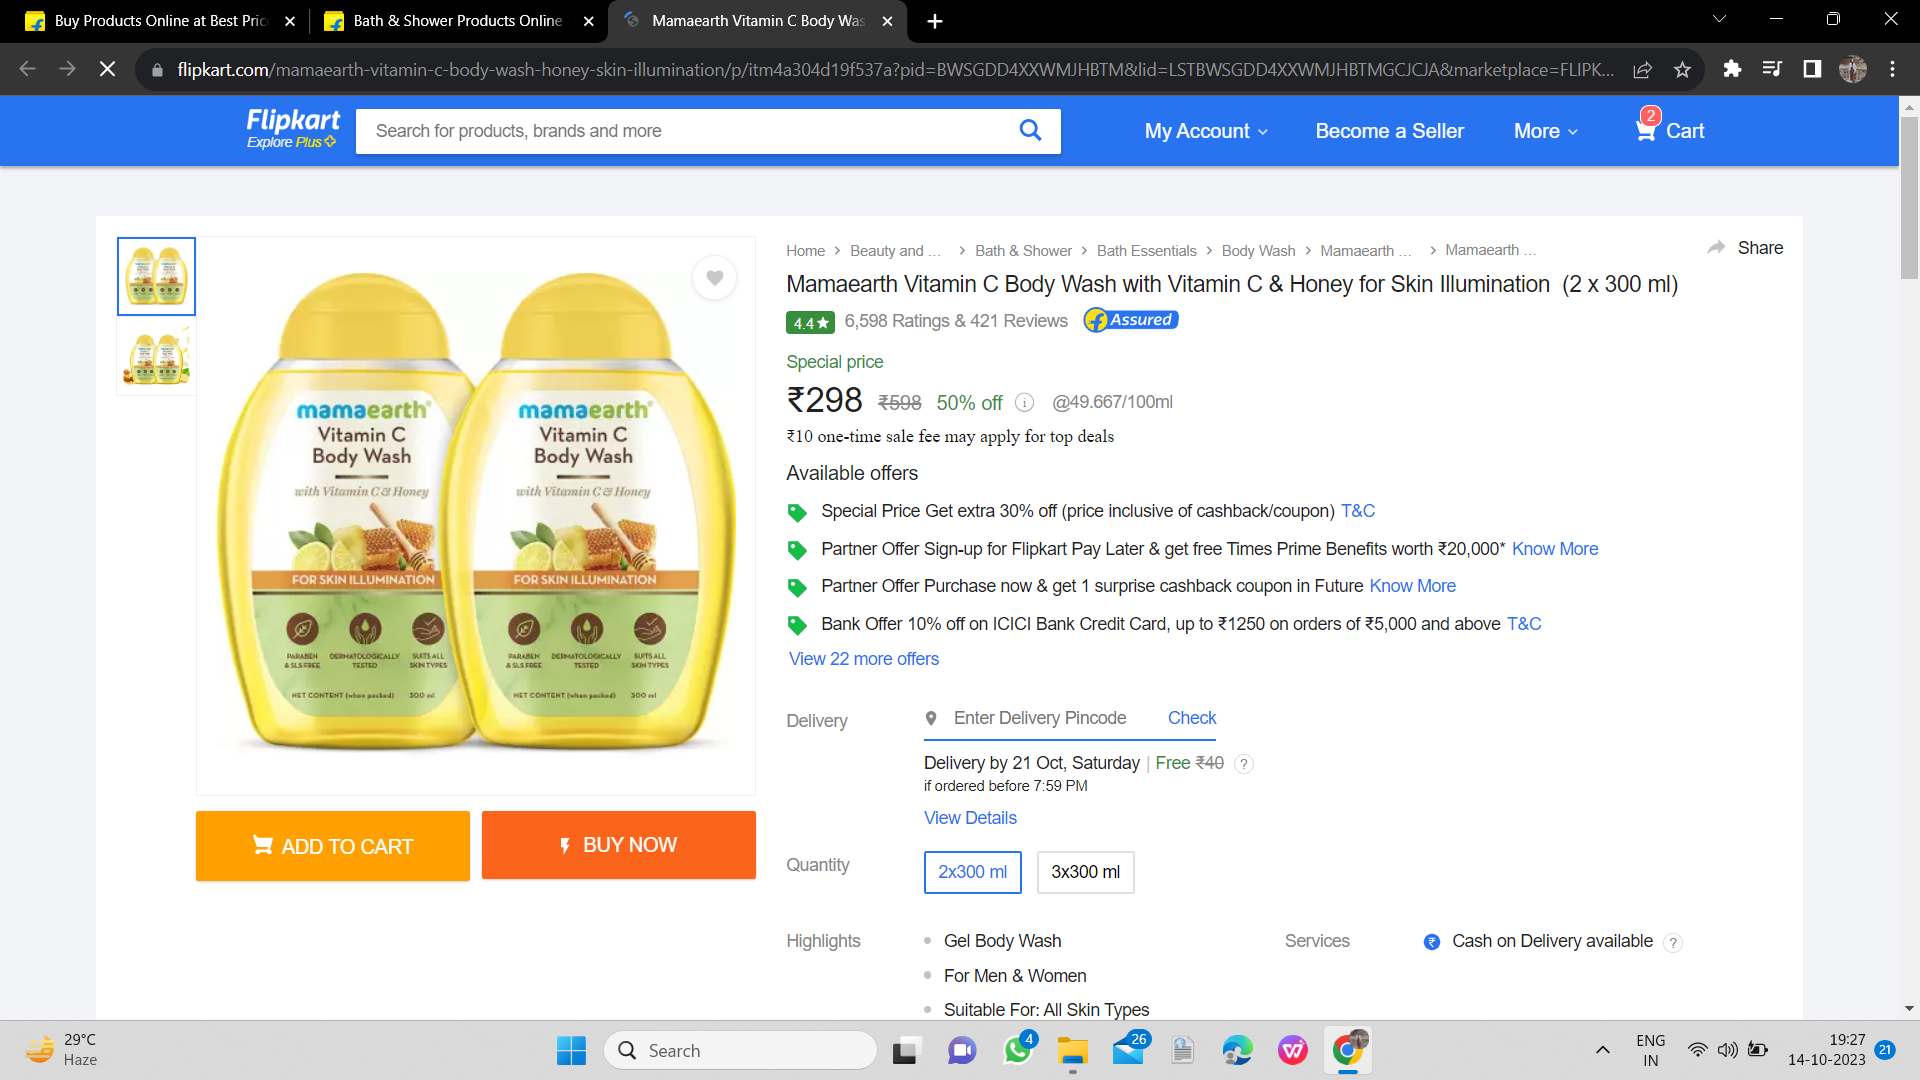Image: (210, 249, 749, 769)
Paragraph: (775, 489, 1630, 673), (177, 796, 775, 899), (778, 352, 1179, 446), (782, 261, 1681, 297), (1127, 103, 1731, 156), (906, 923, 1151, 1021), (895, 831, 1176, 899), (771, 703, 1238, 738), (775, 303, 1192, 338), (1275, 924, 1662, 959), (914, 745, 1142, 778), (778, 459, 934, 485), (769, 920, 872, 952), (790, 841, 861, 878)
